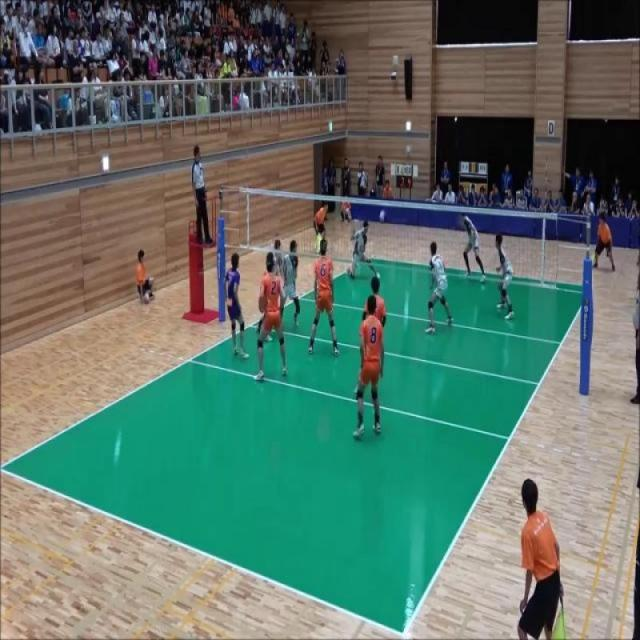volleyball: (379, 208, 386, 223), (346, 208, 350, 215)
